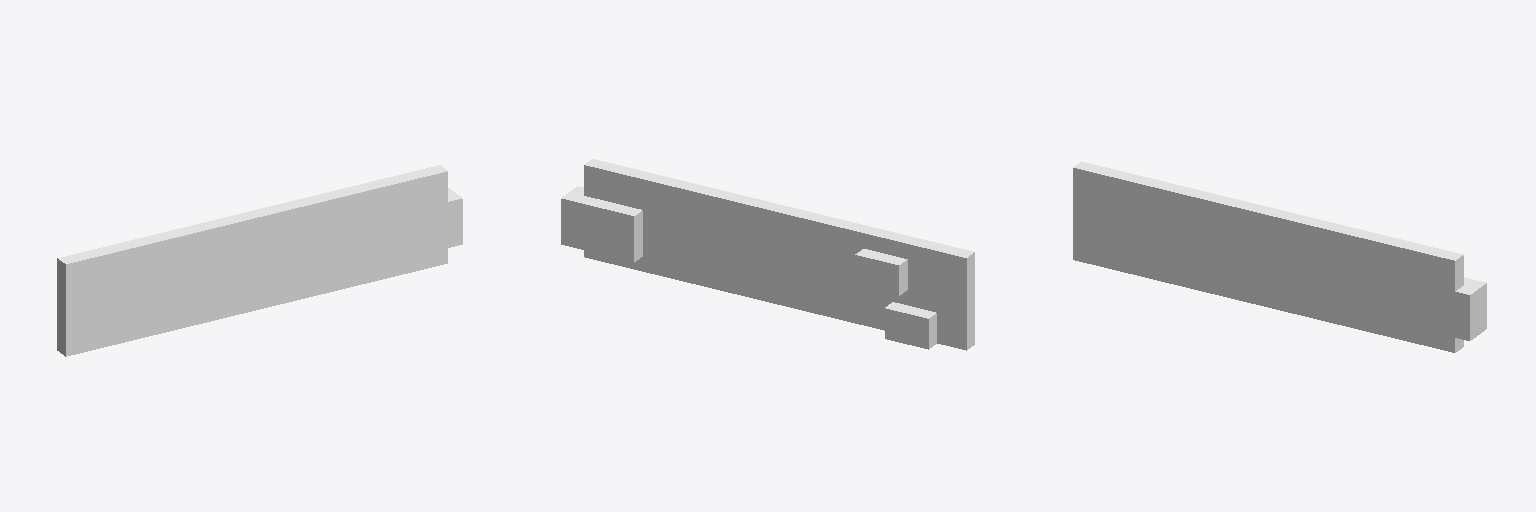
Rendered from SmallBuilding04-7.obj.
The picture shows the model from 3 angles: view 1: azimuth 30°, elevation 25°; view 2: azimuth 150°, elevation 25°; view 3: azimuth 330°, elevation 25°; orthographic projection.
Visible parts, largest first — view 1: object 1; view 2: object 1; view 3: object 1.
Part boxes in pixels (left/top/right/bottom): object 1: left=57, top=165, right=462, bottom=356; object 1: left=561, top=159, right=974, bottom=350; object 1: left=1073, top=161, right=1486, bottom=352.
Size of the model in its own units: 2.7 by 0.6 by 0.2.